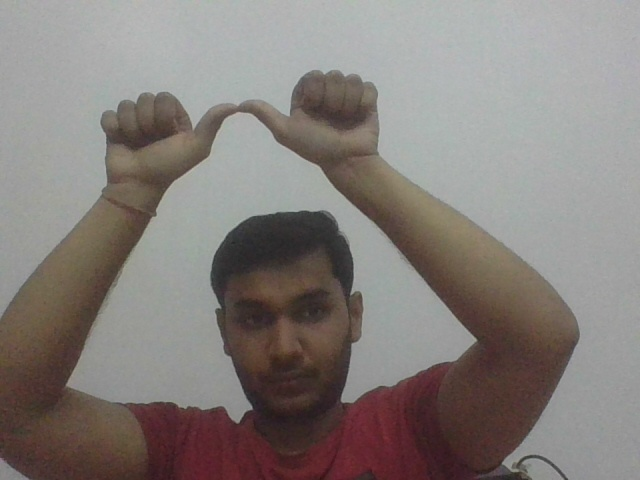A: (80, 66, 403, 171)
